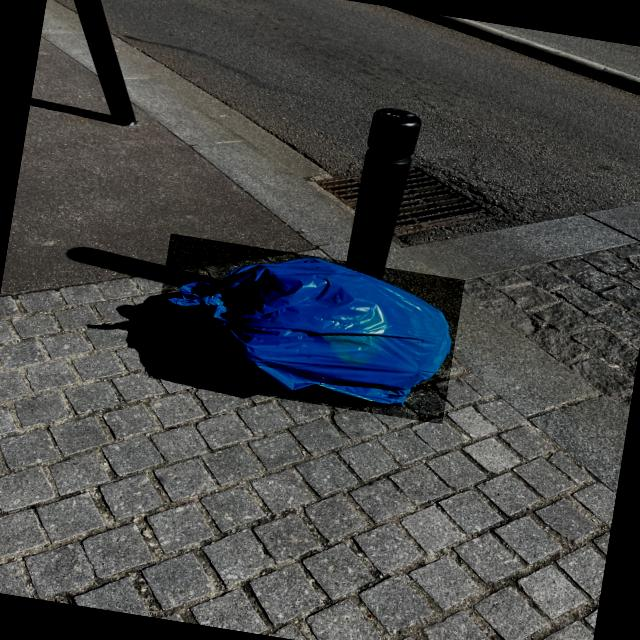Garbage bag: (148, 233, 465, 424)
